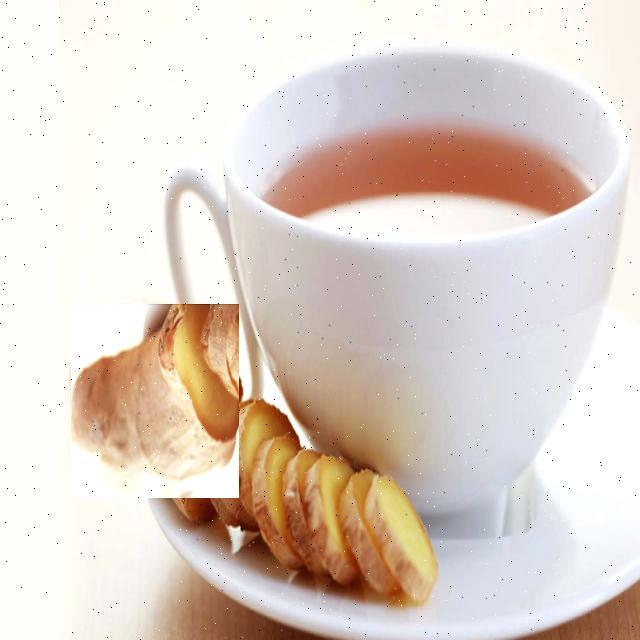ginger: (70, 304, 238, 497)
